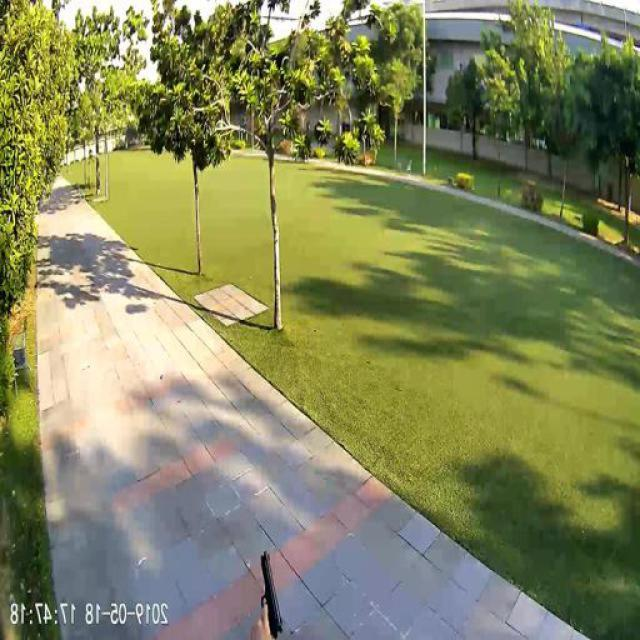weapon: (258, 550, 288, 640)
